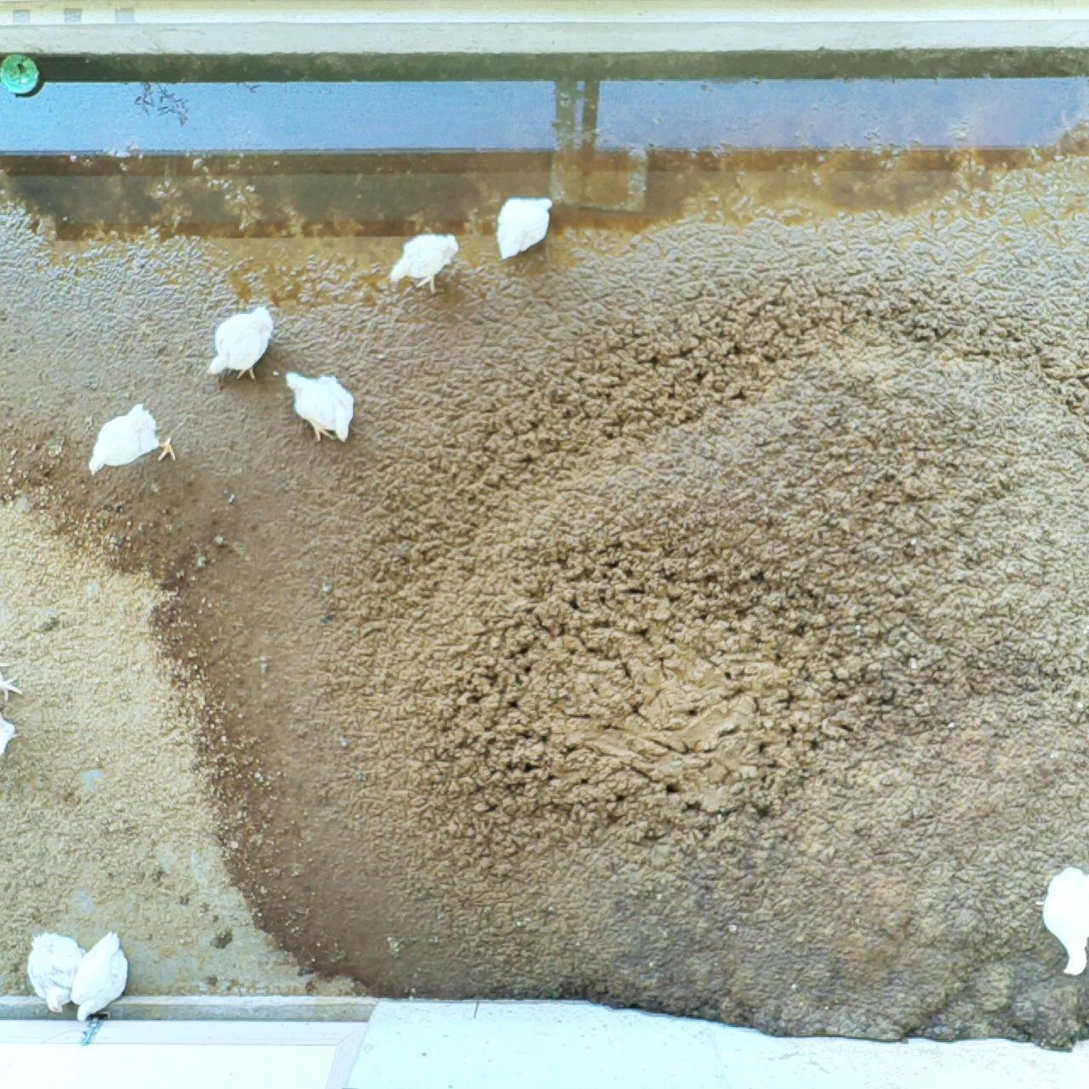chicken: (84, 394, 181, 477), (1038, 858, 1089, 986), (67, 925, 134, 1022), (278, 365, 357, 446), (207, 297, 276, 382), (25, 927, 81, 1018), (387, 229, 460, 296), (491, 194, 558, 262), (0, 668, 21, 765)
